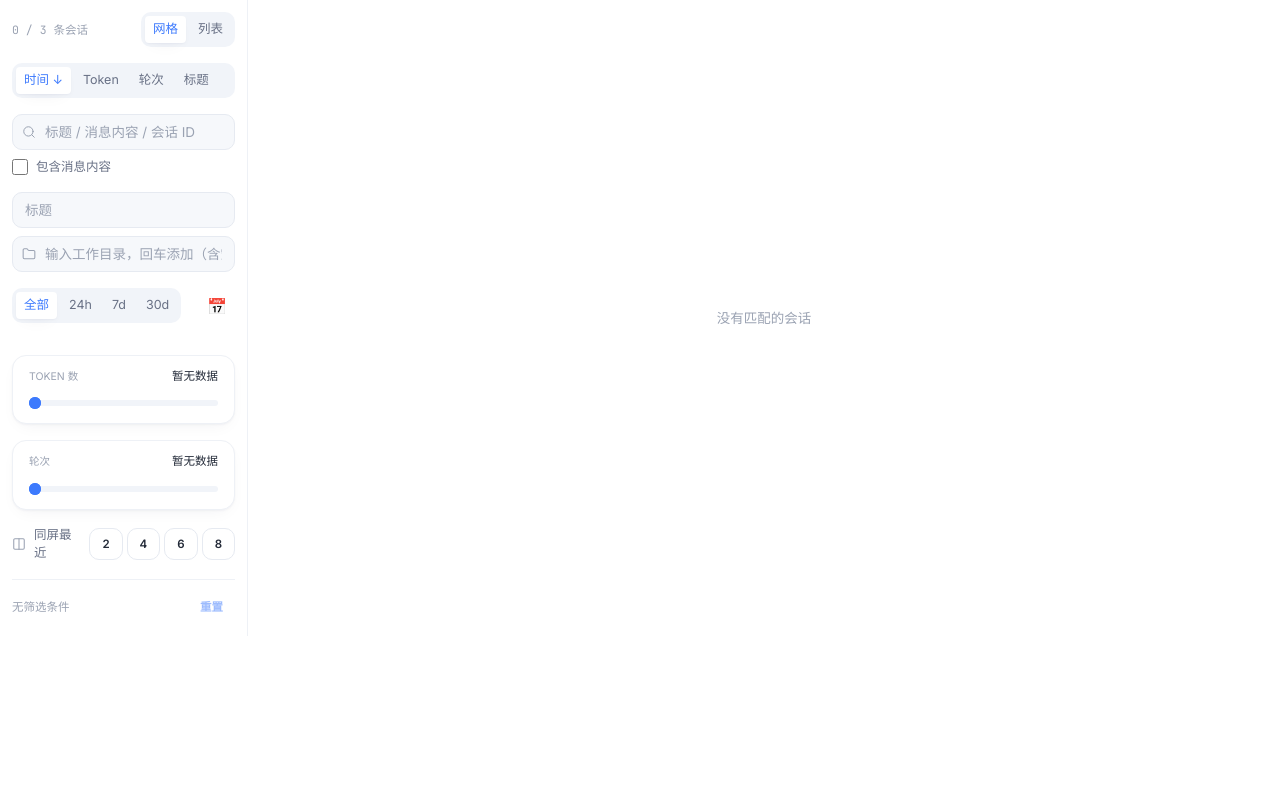
Test case: SessionLibrary (t227) › t388 AC-003: 搜索响应 truncated=true 时展示降级提示
The width and height of the screenshot is (1280, 800).
Click the checkbox labelled "包含消息内容".
click(20, 167)  # box [12, 159, 28, 175]
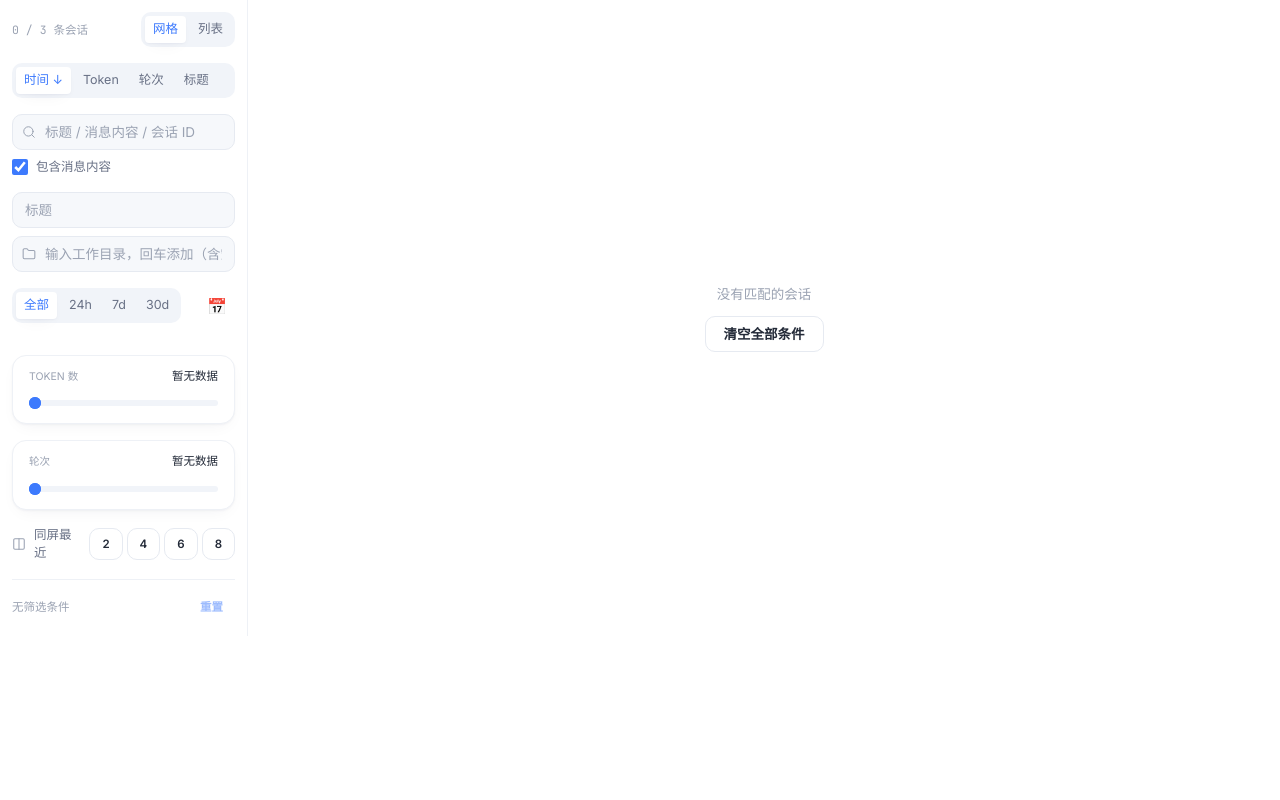
Type "关键词" into the field with placeholder "标题 / 消息内容 / 会话 ID".
click(124, 132); type("关键词")  # box [12, 114, 235, 150]
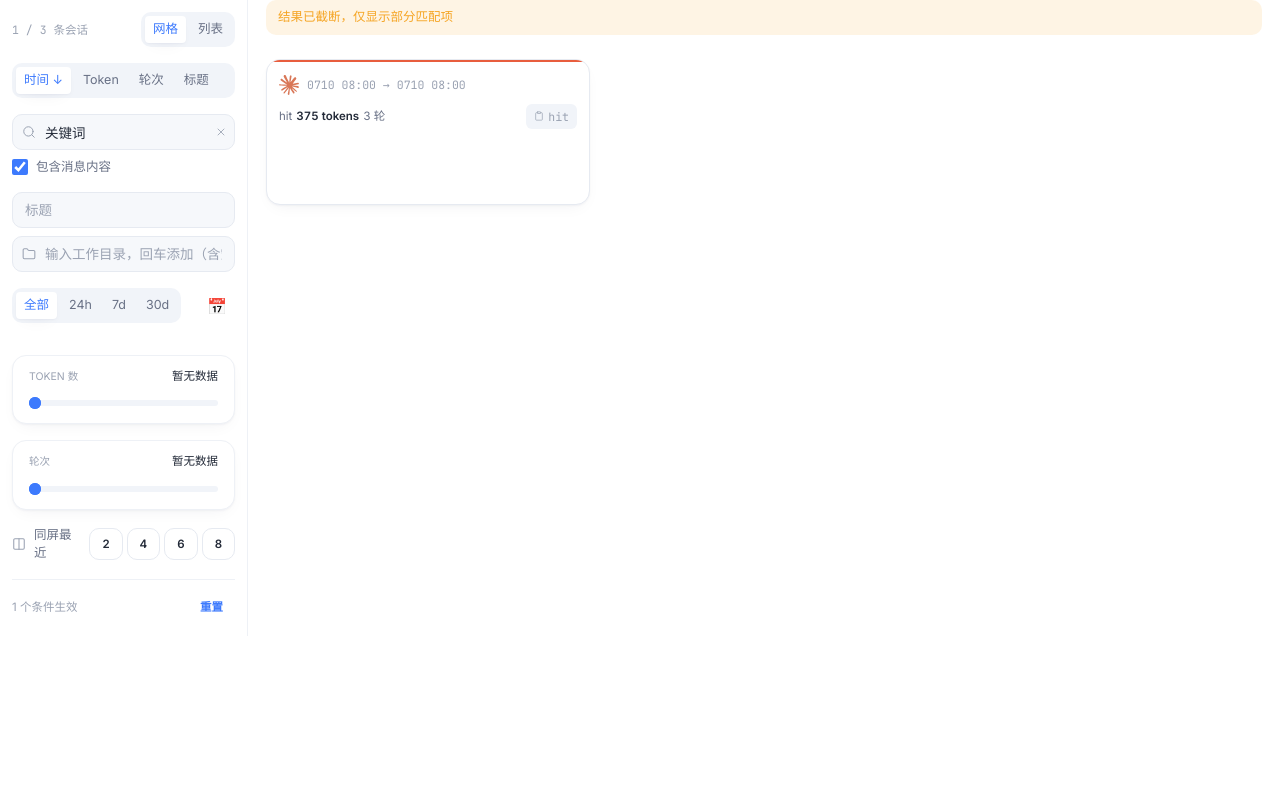
Expected: the text "结果已截断，仅显示部分匹配项" is shown, [266, 0, 1262, 35]
Expected: the text with test id "search-truncated-hint" shows "结果已截断", [278, 9, 453, 24]
